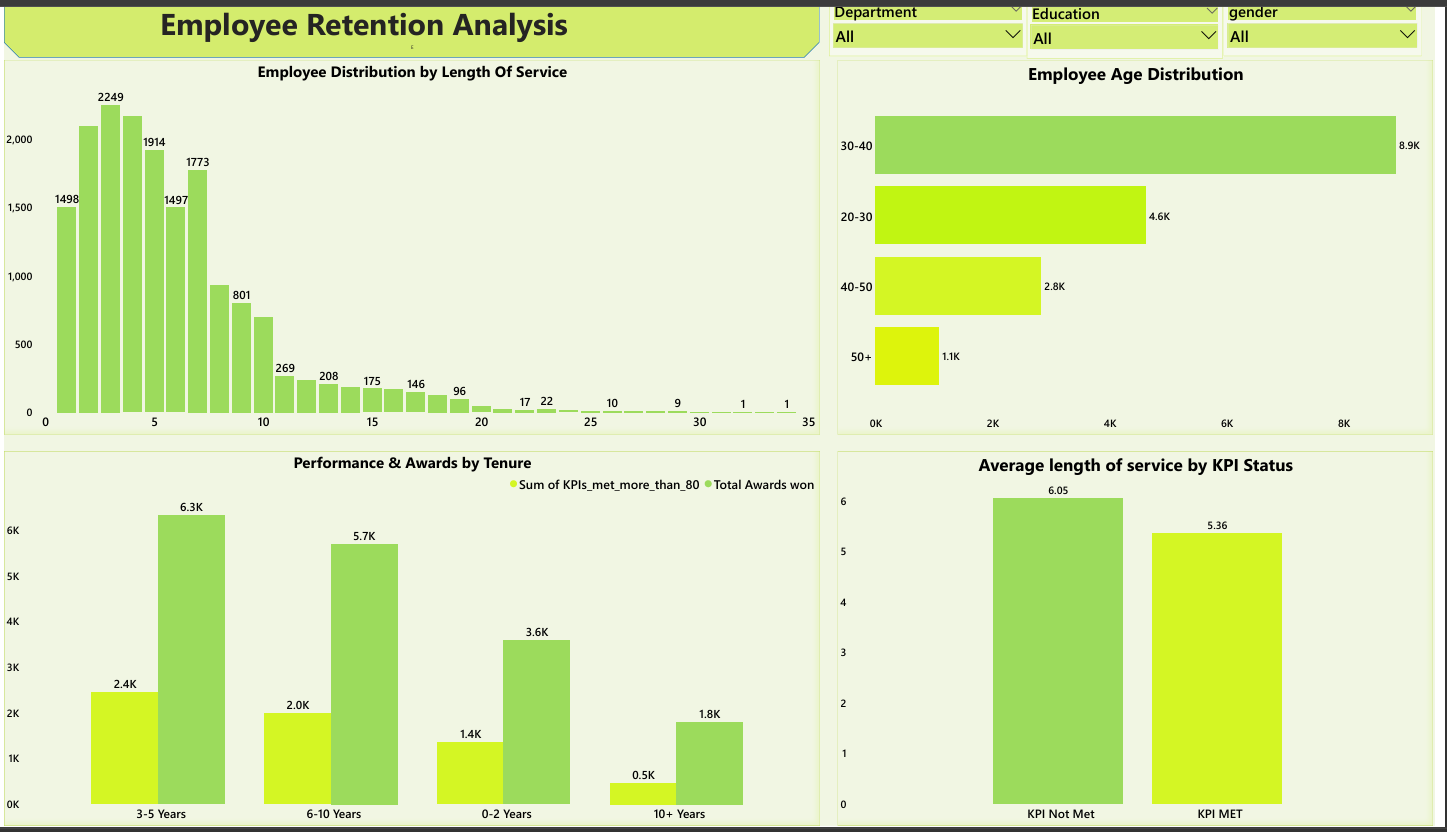

What the dashboard file says about the page in this screenshot:
{"tool":"powerbi","page":{"name":"Retention","canvas":[3800,2200],"ordinal":2},"visuals":[{"type":"shape","box":[0,0,2165.2,160.9],"z":0},{"type":"textbox","title":" Employee  Retention   Analysis","box":[409.1,13.6,1345.5,150],"z":1000},{"type":"slicer","title":"Departme","fields":{"Values":["employees_cleaned.department"]},"box":[2191.3,0,526.1,156.5],"z":2000},{"type":"slicer","fields":{"Values":["employees_cleaned.education"]},"box":[2715.8,5.3,521.1,157.9],"z":3000},{"type":"slicer","fields":{"Values":["employees_cleaned.gender"]},"box":[3239.1,0,526.1,156.5],"z":4000},{"type":"clusteredColumnChart","title":"Employee Distribution by Length Of Service","fields":{"Category":["employees_cleaned.length_of_service"],"Y":["CountNonNull(employees_cleaned.employee_id)"]},"box":[0,166.7,2166.7,995.2],"z":5000},{"type":"clusteredBarChart","title":"Employee Age Distribution","fields":{"Y":["CountNonNull(employees_cleaned.employee_id)"],"Category":["employees_cleaned.Age Group"]},"box":[2214.3,166.7,1581,995.2],"z":6000},{"type":"clusteredColumnChart","title":"Average length of service by KPI Status","fields":{"Category":["employees_cleaned.KPI Status"],"Y":["Avg(employees_cleaned.length_of_service)"]},"box":[2214.3,1204.8,1581,995.2],"z":7000},{"type":"clusteredColumnChart","title":"Performance & Awards by  Tenure","fields":{"Category":["employees_cleaned.Tenure Group"],"Y":["Sum(employees_cleaned.KPIs_met_more_than_80)","employees_cleaned.Total Awards won"]},"box":[0,1205,2167,995],"z":7001}]}

Visuals, with their boxes in screenshot pixels (x1, y1, x2, y2), scaled from the page's 3800x2200 canvas onto the 1447x832 screenshot:
shape: [0,0,824,61]
" Employee  Retention   Analysis" textbox: [156,5,668,62]
"Departme" slicer: [834,0,1035,59]
slicer - employees_cleaned.education: [1034,2,1233,62]
slicer - employees_cleaned.gender: [1233,0,1434,59]
"Employee Distribution by Length Of Service" clusteredColumnChart: [0,63,825,439]
"Employee Age Distribution" clusteredBarChart: [843,63,1445,439]
"Average length of service by KPI Status" clusteredColumnChart: [843,456,1445,831]
"Performance & Awards by  Tenure" clusteredColumnChart: [0,456,825,831]
